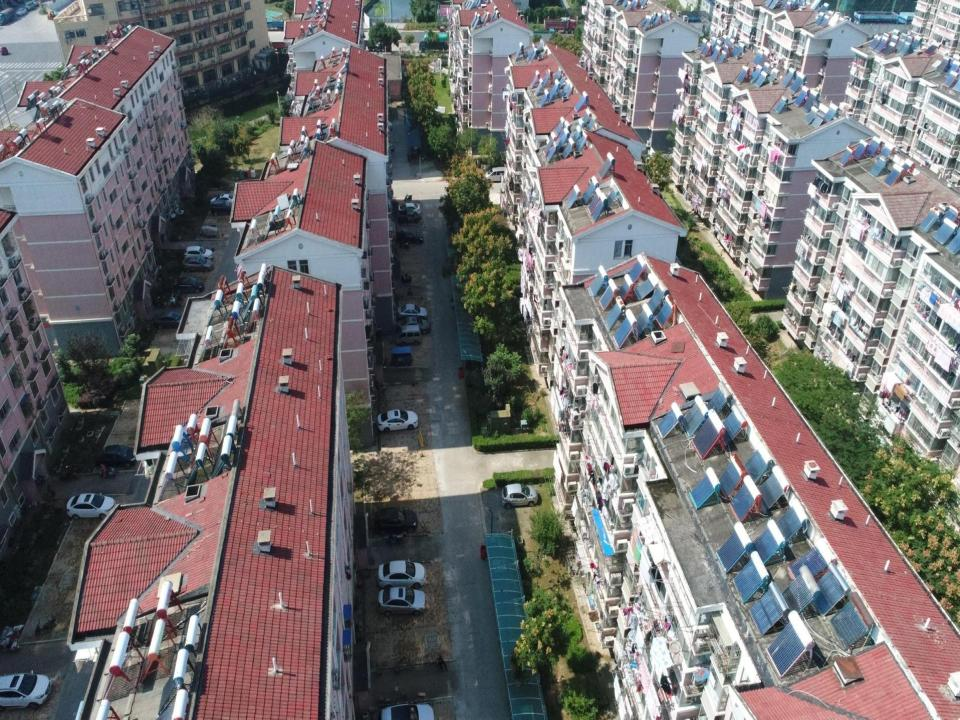car: (0, 672, 52, 708), (378, 585, 427, 617), (66, 492, 116, 519), (378, 561, 426, 588), (372, 508, 419, 534), (376, 408, 418, 434), (501, 482, 538, 509), (95, 445, 137, 467), (378, 703, 434, 719), (182, 255, 214, 273), (398, 317, 430, 334), (174, 275, 204, 293), (398, 303, 429, 320), (154, 312, 186, 327), (184, 244, 214, 258), (395, 230, 424, 244), (209, 198, 231, 214), (399, 202, 421, 215), (209, 194, 234, 204)
truck: (544, 15, 577, 34), (419, 33, 450, 50)
van: (395, 324, 422, 346), (484, 166, 506, 182)
